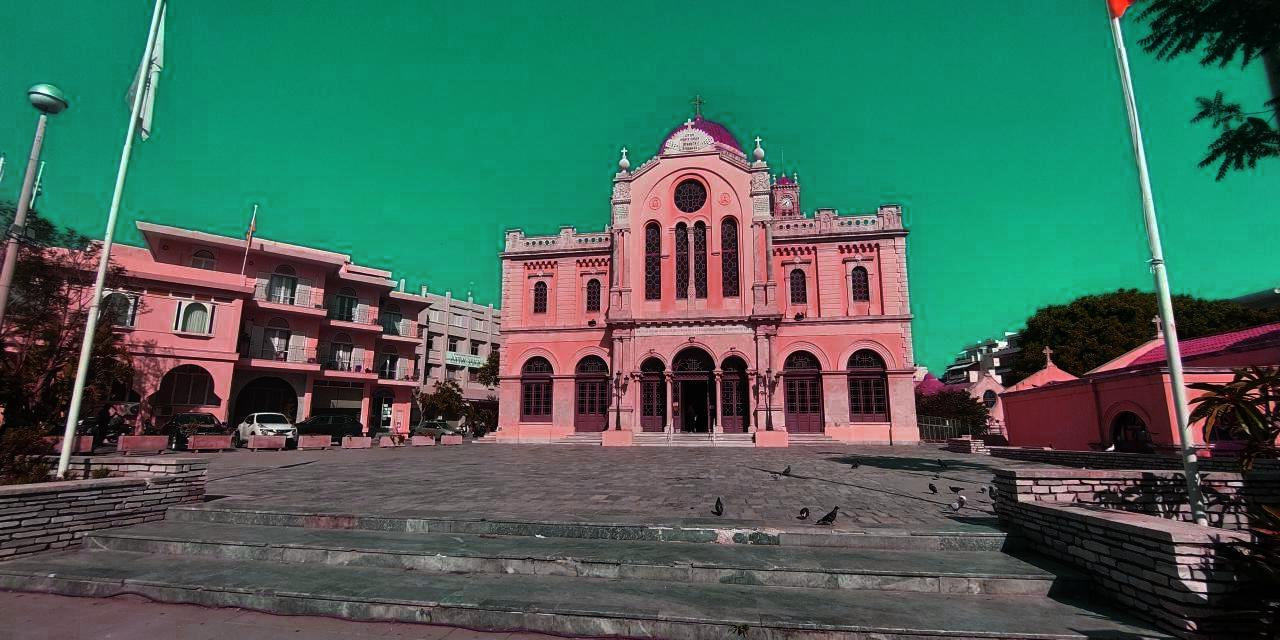Agios Minas: (495, 82, 919, 440)
